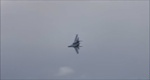maybay_muctieu: (66, 33, 82, 54)
